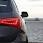car: (1, 2, 26, 40), (21, 11, 28, 18)
